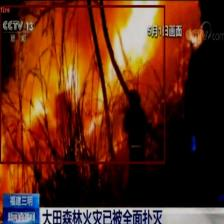fire: (0, 4, 164, 163)
